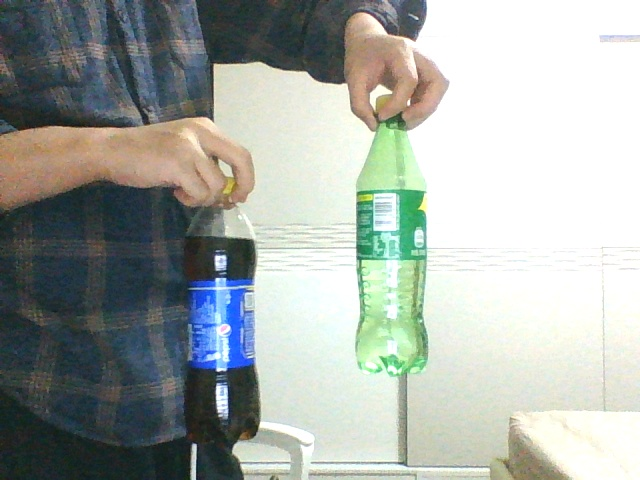Cola: (183, 179, 260, 444)
Sprite: (354, 95, 430, 375)
